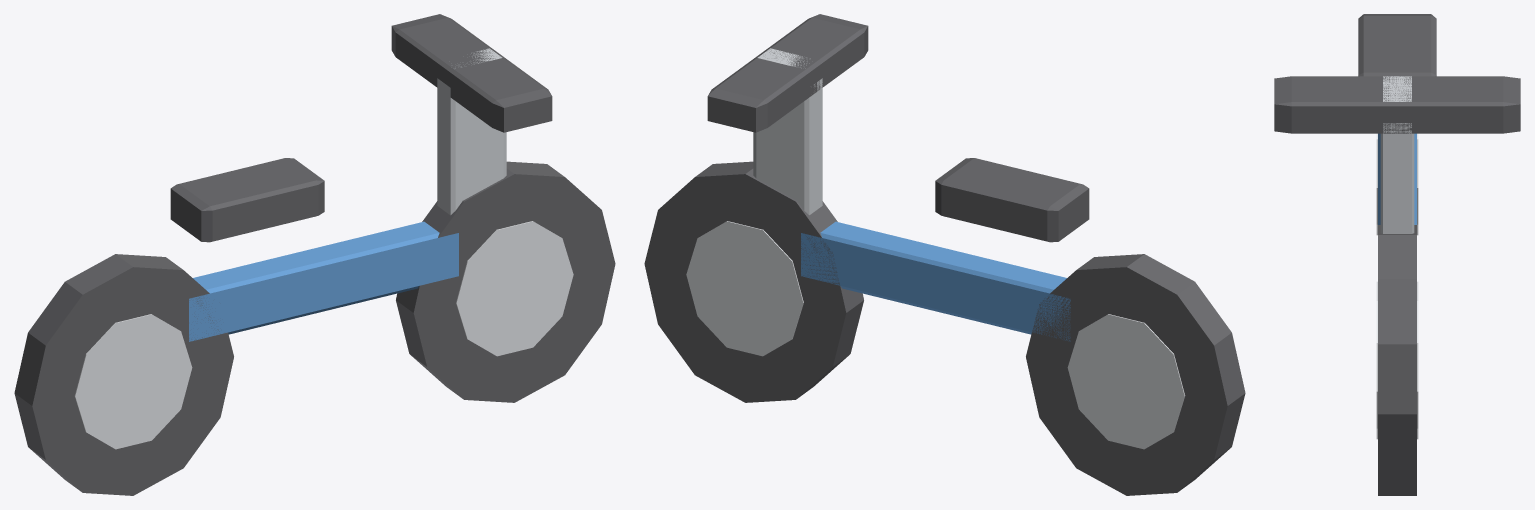
The model's file is b03_drop_bar_road_bicycle.glb.
3 views of the same model, side by side, from view 1: azimuth 30°, elevation 25°; view 2: azimuth 150°, elevation 25°; view 3: azimuth 270°, elevation 25° (orthographic). The views are drawn at different scales.
Parts seen in each view (by area): view 1: b03_drop_bar_road_bicycle; view 2: b03_drop_bar_road_bicycle; view 3: b03_drop_bar_road_bicycle.
Part boxes in pixels (box(x1,y1,x2,y2)): b03_drop_bar_road_bicycle: box(14, 14, 615, 495); b03_drop_bar_road_bicycle: box(644, 14, 1245, 495); b03_drop_bar_road_bicycle: box(1274, 14, 1520, 495).
Bounding box in the file's own units: 1.81 × 1.02 × 0.604.
